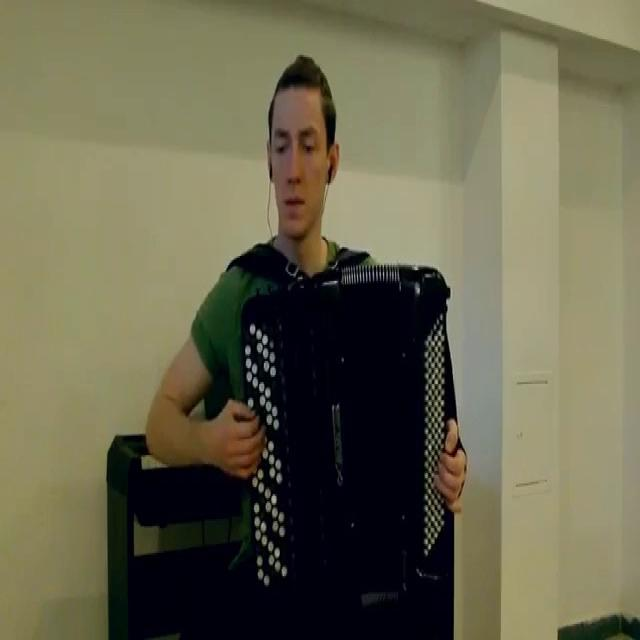Accordion: (239, 268, 452, 588)
